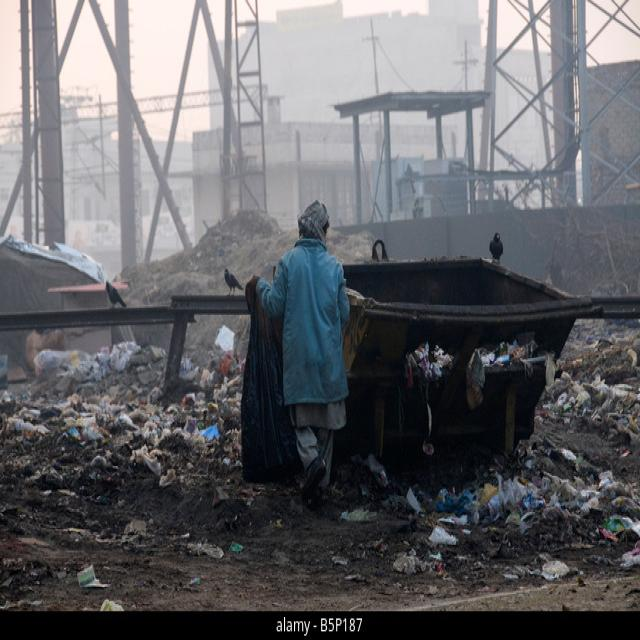trash: (9, 345, 295, 518), (417, 350, 616, 554), (186, 219, 270, 263)
